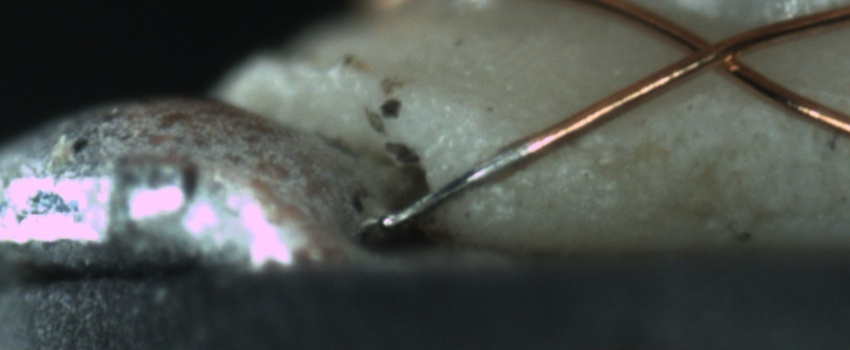CL: (664, 20, 761, 82)
DL: (479, 115, 645, 182)
TS: (381, 144, 531, 228)
TTCW: (384, 106, 598, 226)
